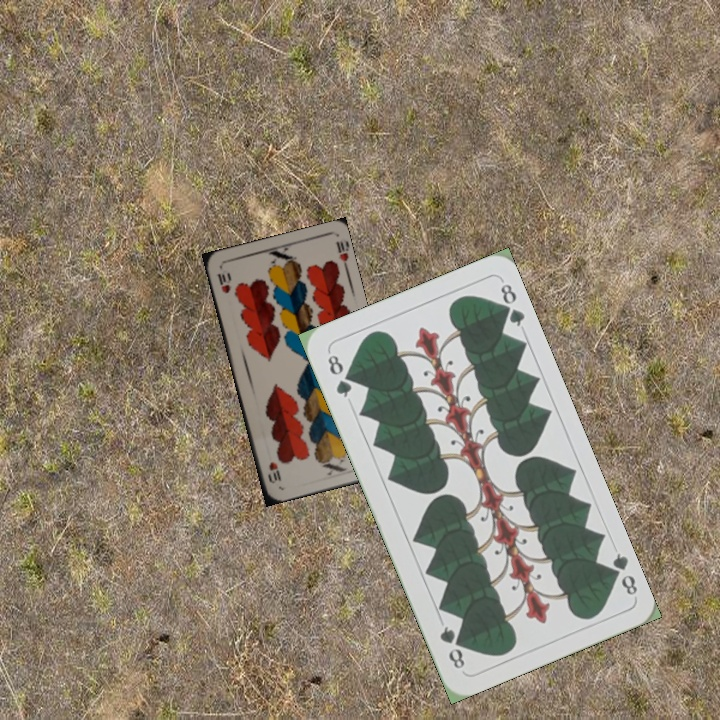G8: (603, 548, 640, 598), (323, 348, 355, 401)
H10: (213, 269, 233, 296)
